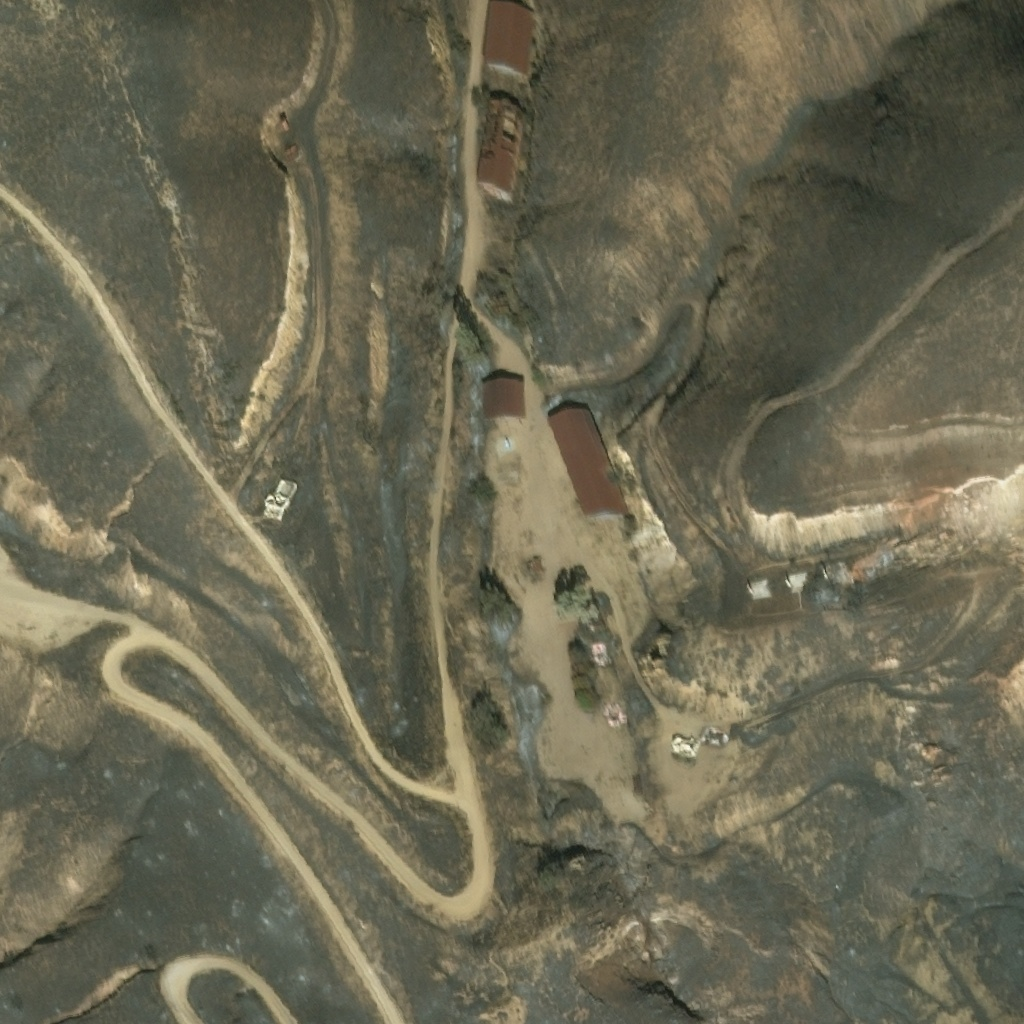0 no-damage: (546, 401, 626, 515), (476, 86, 514, 182), (480, 0, 527, 56), (480, 375, 527, 422), (525, 553, 542, 571)
3 destroyed: (262, 474, 295, 518), (671, 732, 699, 755), (699, 716, 725, 739), (585, 630, 607, 653), (602, 689, 614, 711)
